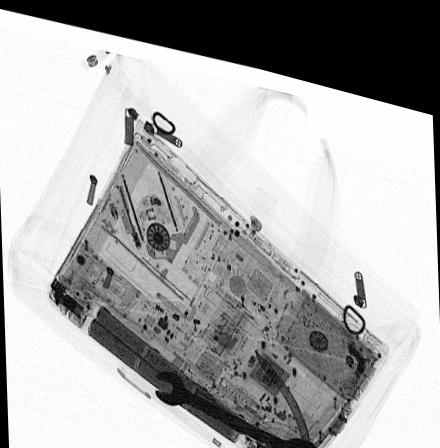Wrench: (152, 358, 320, 448)
